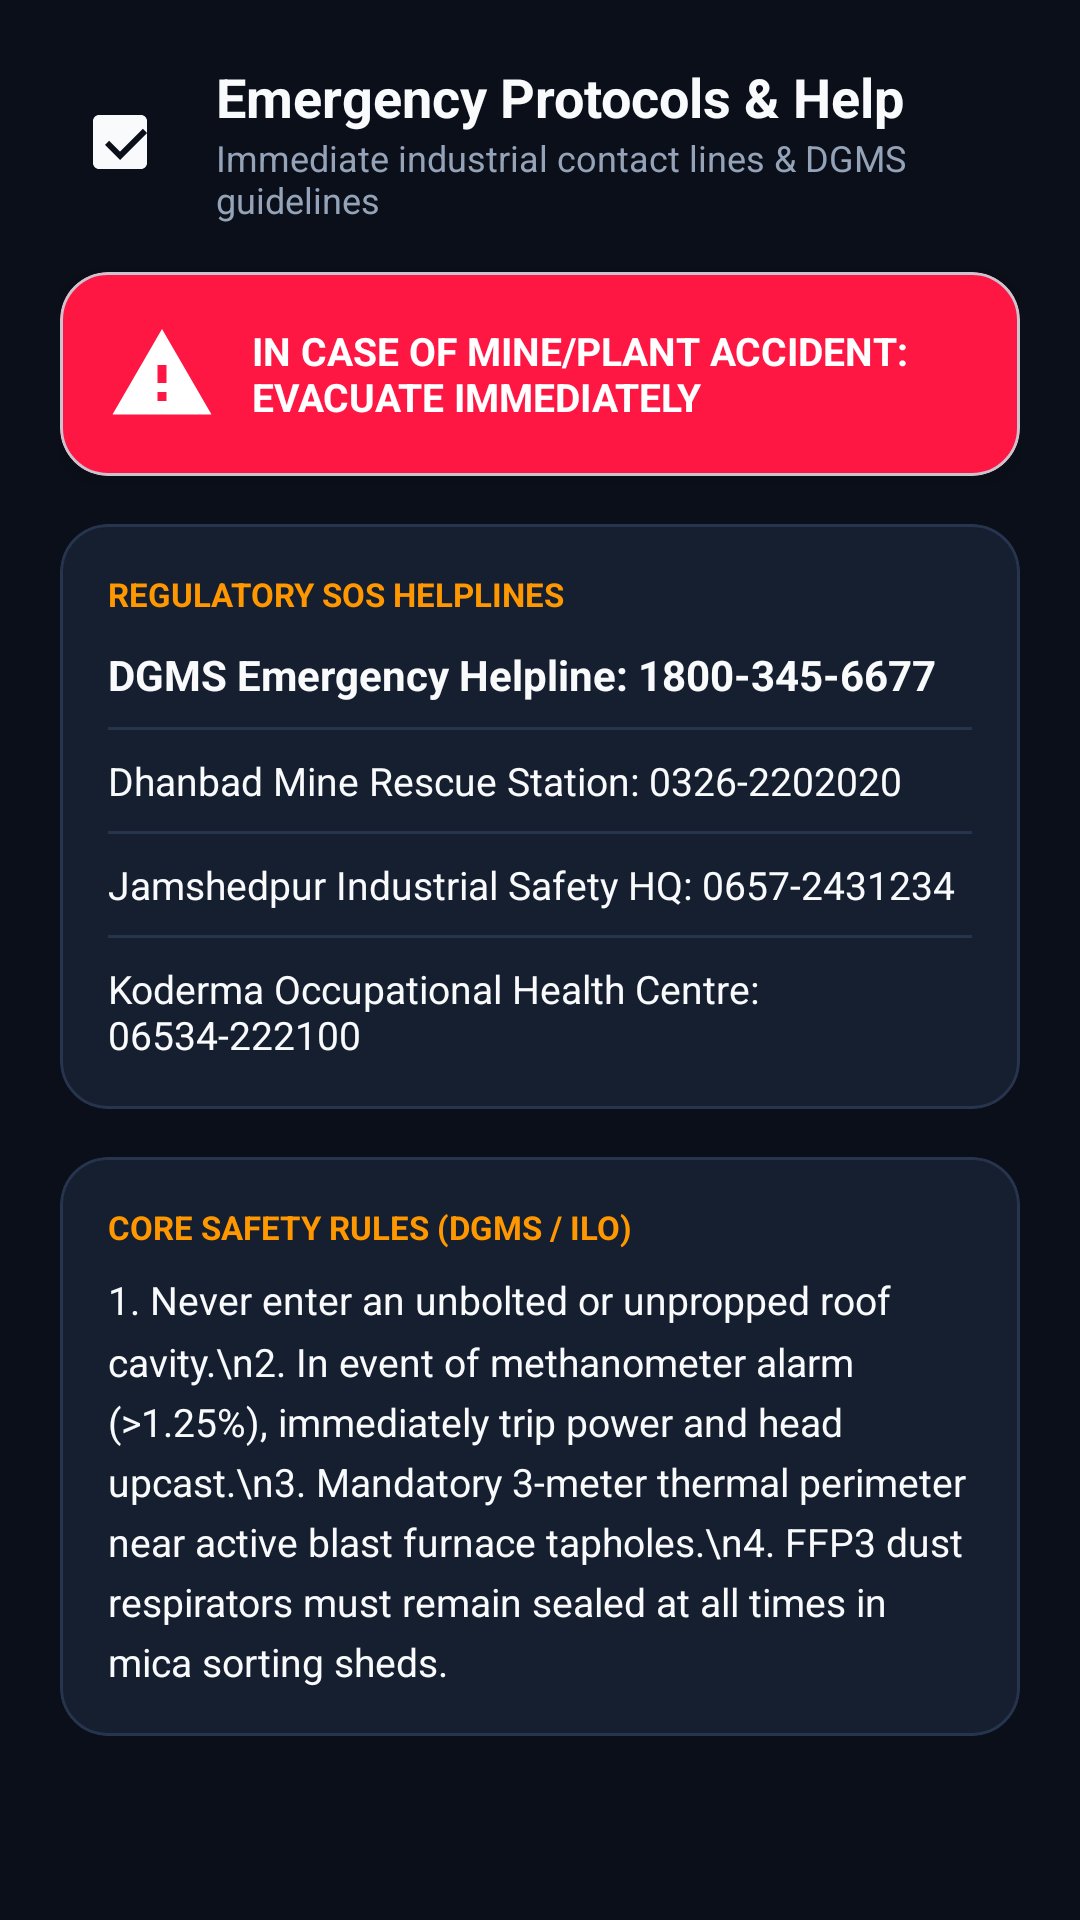

Where icons sit on this 1080 × 1920 app screen, as Rect(x1, y1, x2, y2):
Alert: Rect(112, 329, 212, 415)
